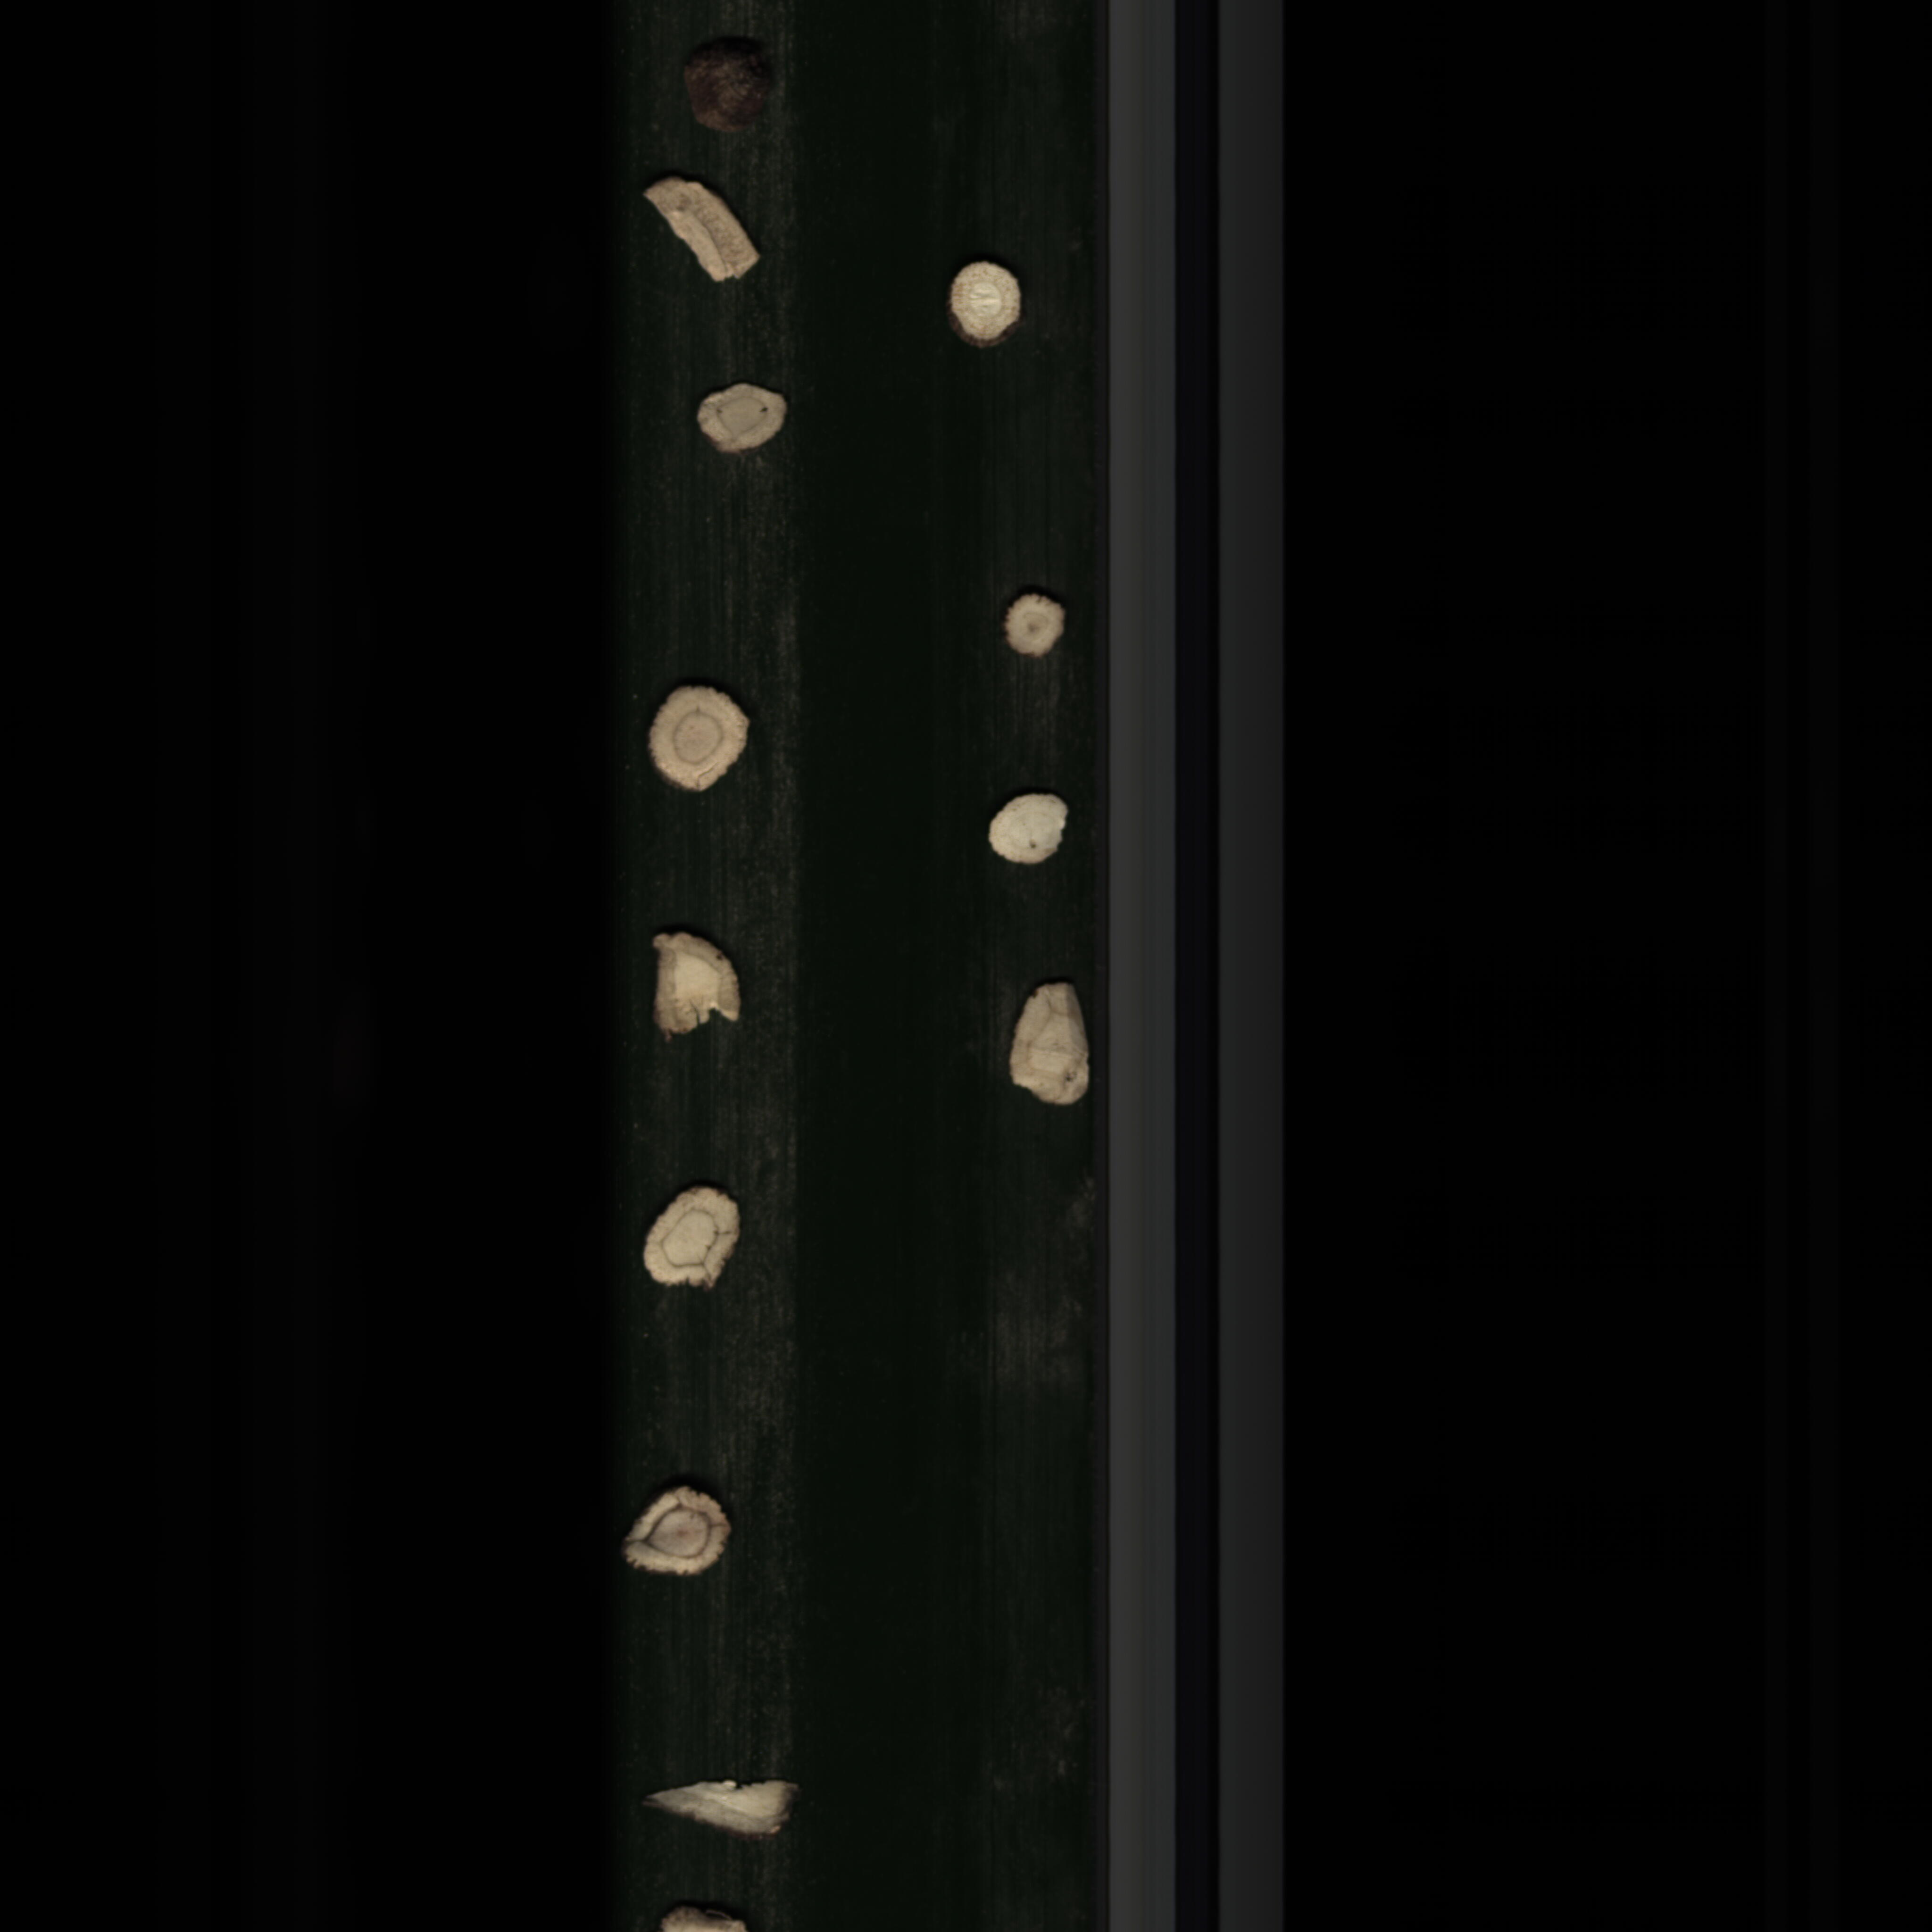bark: (674, 44, 787, 143)
debris: (648, 172, 778, 295), (637, 925, 759, 1056), (632, 1773, 819, 1858), (998, 977, 1108, 1116)
moldy: (616, 1481, 752, 1587)
